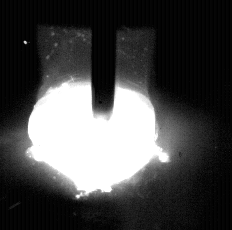arame: (92, 0, 117, 122)
poca: (27, 0, 159, 230)
